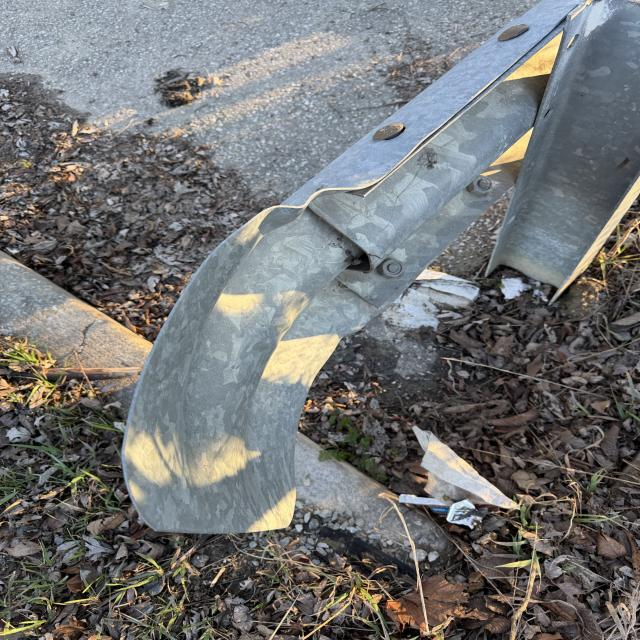Guard rail: (141, 17, 640, 334)
